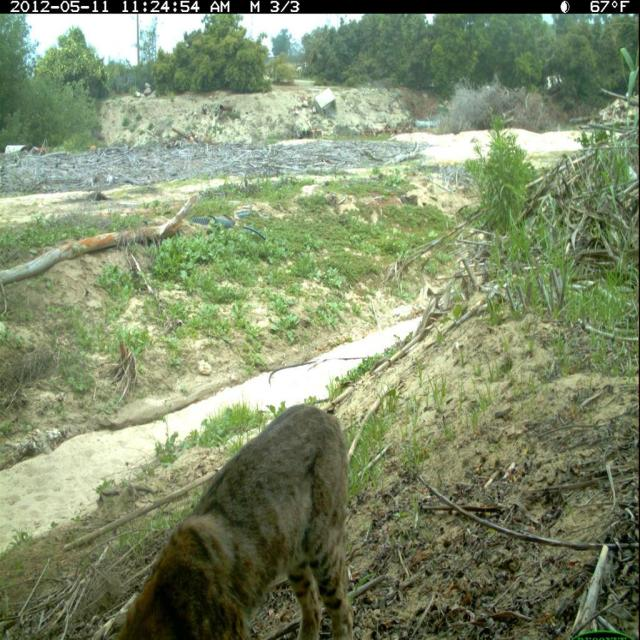bobcat: (92, 391, 363, 637)
